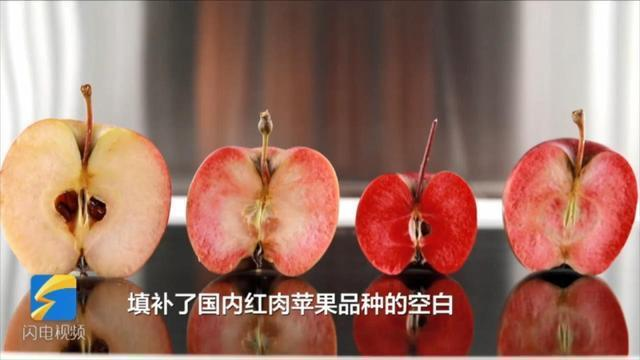apple: (1, 116, 171, 278), (186, 145, 339, 277), (501, 136, 636, 277), (355, 166, 478, 274)
